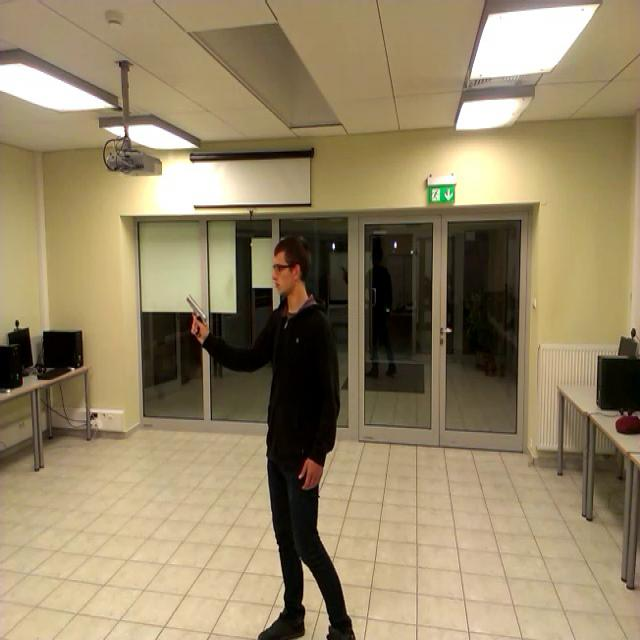handgun: (178, 292, 212, 351)
